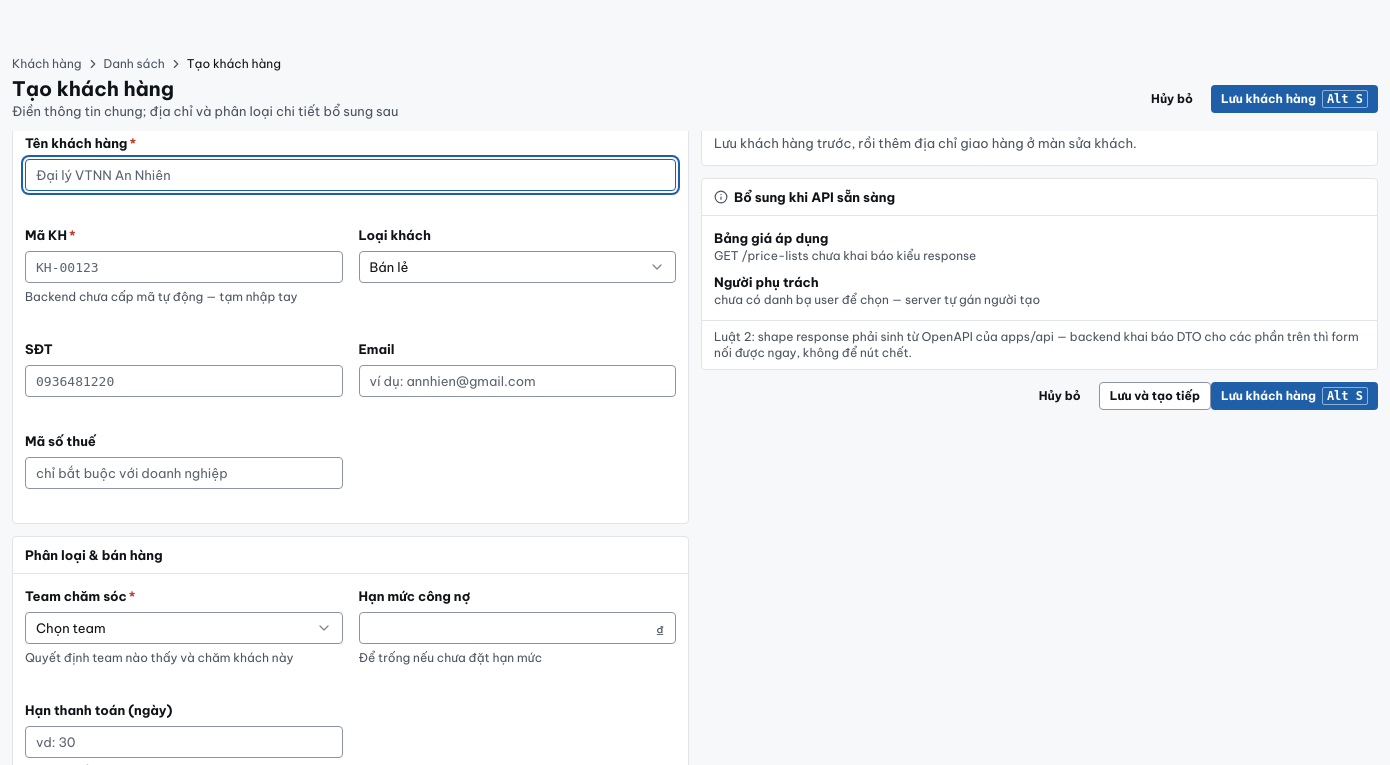
Test case: CustomerFormScreen — POST /customers (B-03 tạo) › bỏ trống bắt buộc → lỗi validate tại field, KHÔNG gọi API
This screenshot has width=1390, height=765.
What coordinates should you click on to do the following:
click the 1st button "Lưu khách hàng Alt S"
I would click on:
 (1294, 98)
Its box is [1211,84,1378,112].
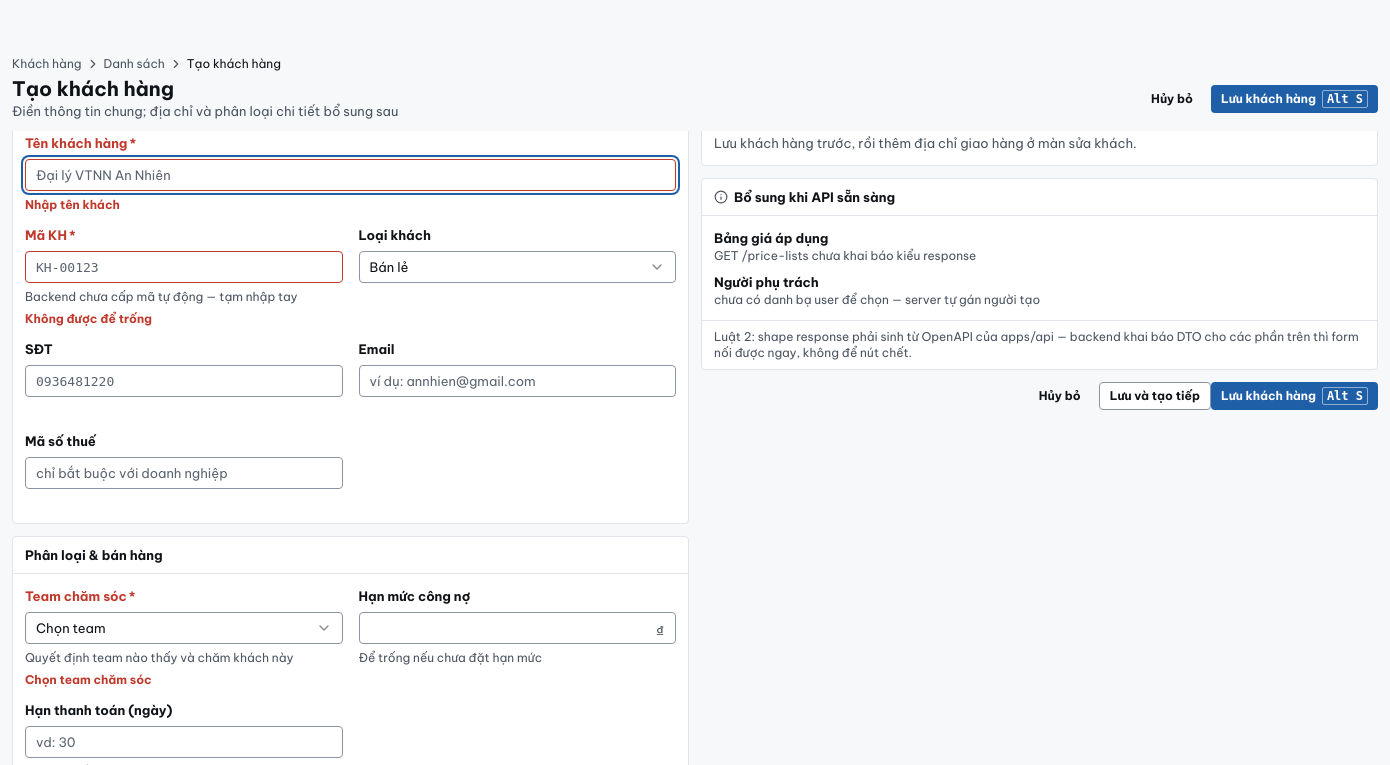
Now the text "Nhập tên khách" is shown, box [25,197,120,212]
Now the text "Không được để trống" is shown, box [25,311,152,326]
Now the text "Chọn team chăm sóc" is shown, box [25,672,152,687]
